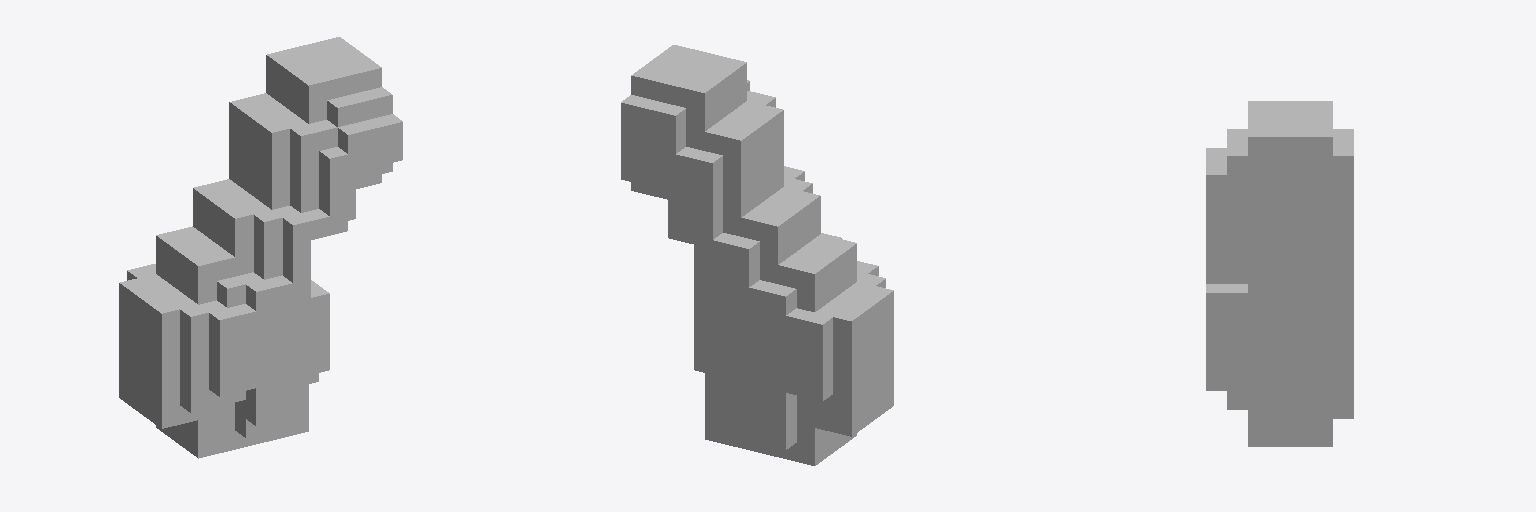
Rendered from Mole Right Arm.obj.
3 views of the same model, side by side, from view 1: azimuth 30°, elevation 25°; view 2: azimuth 150°, elevation 25°; view 3: azimuth 270°, elevation 25° (orthographic).
Parts seen in each view (by area): view 1: object 1; view 2: object 1; view 3: object 1.
Boxes of the visible parts, x1,y1,x2,y2 form: object 1: [119, 37, 402, 458]; object 1: [621, 45, 893, 465]; object 1: [1206, 101, 1353, 446].
Size of the model in its own units: 1.2 by 1.8 by 0.7.